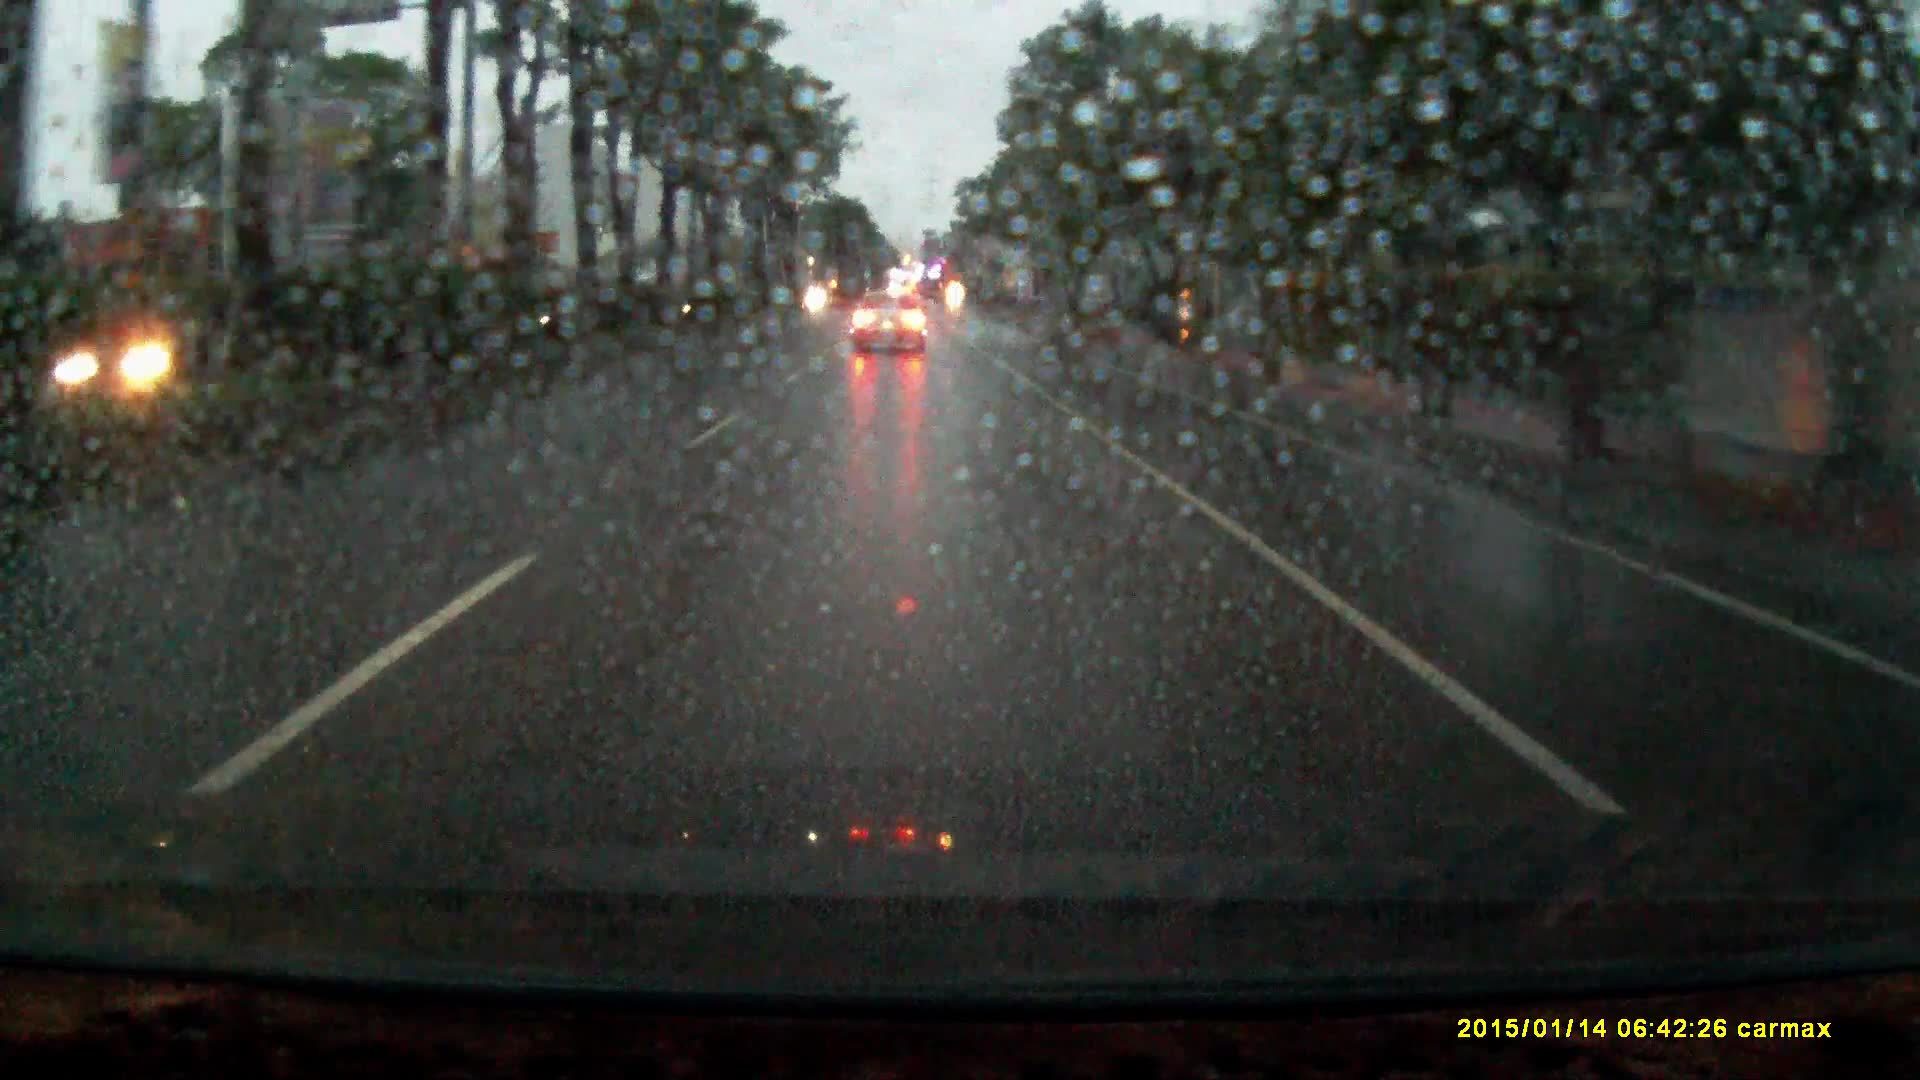vehicle: (50, 319, 193, 411), (849, 287, 931, 357)
